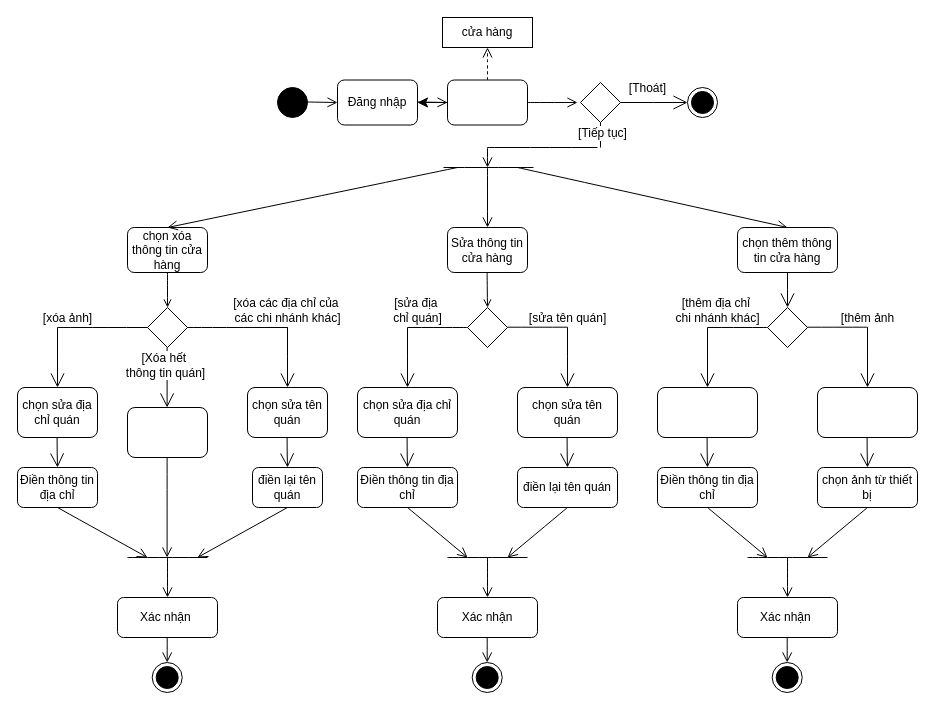
Some shapes in this 935 by 710 pixel diagram are drawn without their labels. Each missing label, with the centre of its shape:
"chọn thêm ảnh" goes at (x=867, y=412).
"chọn thêm địa chỉ nhi nhánh khác" goes at (x=707, y=412).
"chọn xóa hết thông tin quán" goes at (x=167, y=432).
"Truy cập thông tin cửa hàng" goes at (x=487, y=102).
